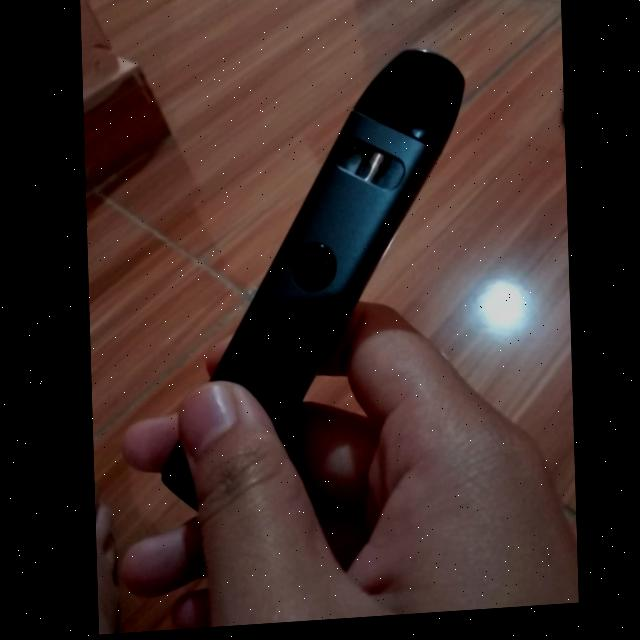vape: (151, 47, 481, 526)
